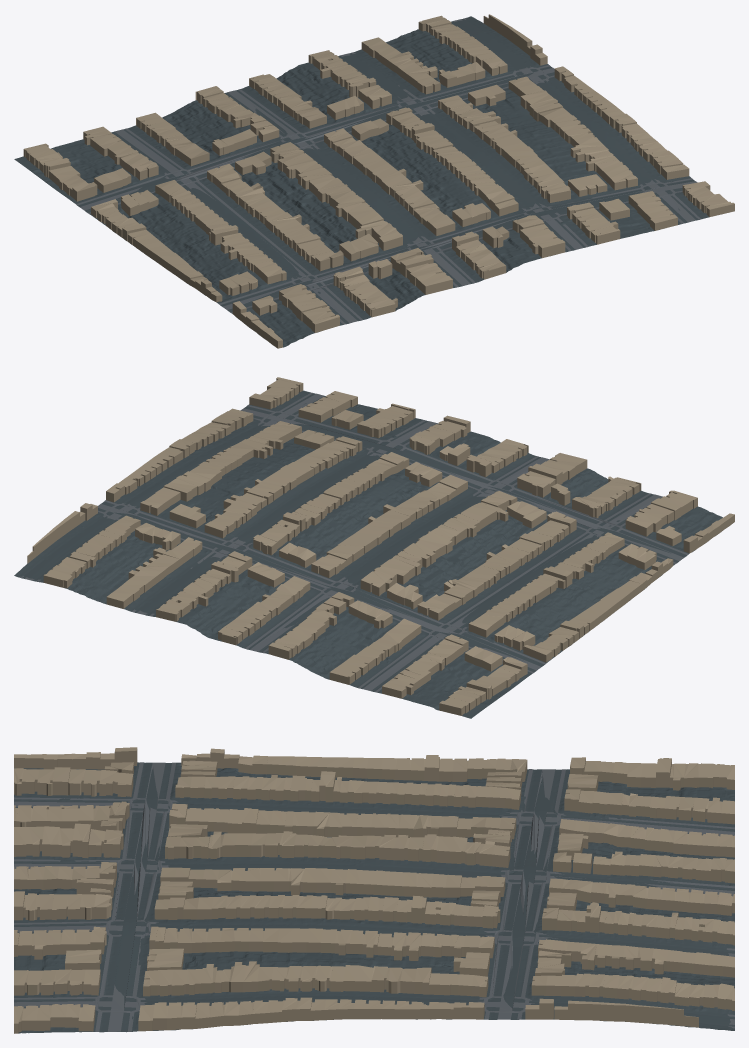
Rendered from epsg26910-1418-10882.lod0.glb.
3 views of the same model, one above another, from view 1: azimuth 30°, elevation 25°; view 2: azimuth 150°, elevation 25°; view 3: azimuth 270°, elevation 25° (orthographic). The views are drawn at different scales.
Parts seen in each view (by area): view 1: epsg26910-1418-10882-lod0; view 2: epsg26910-1418-10882-lod0; view 3: epsg26910-1418-10882-lod0.
Boxes of the visible parts, bbox=[...] form: epsg26910-1418-10882-lod0: bbox=[14, 14, 734, 348]; epsg26910-1418-10882-lod0: bbox=[14, 377, 734, 718]; epsg26910-1418-10882-lod0: bbox=[14, 747, 734, 1033].
Bounding box in the file's own units: 384 × 41.86 × 384.
